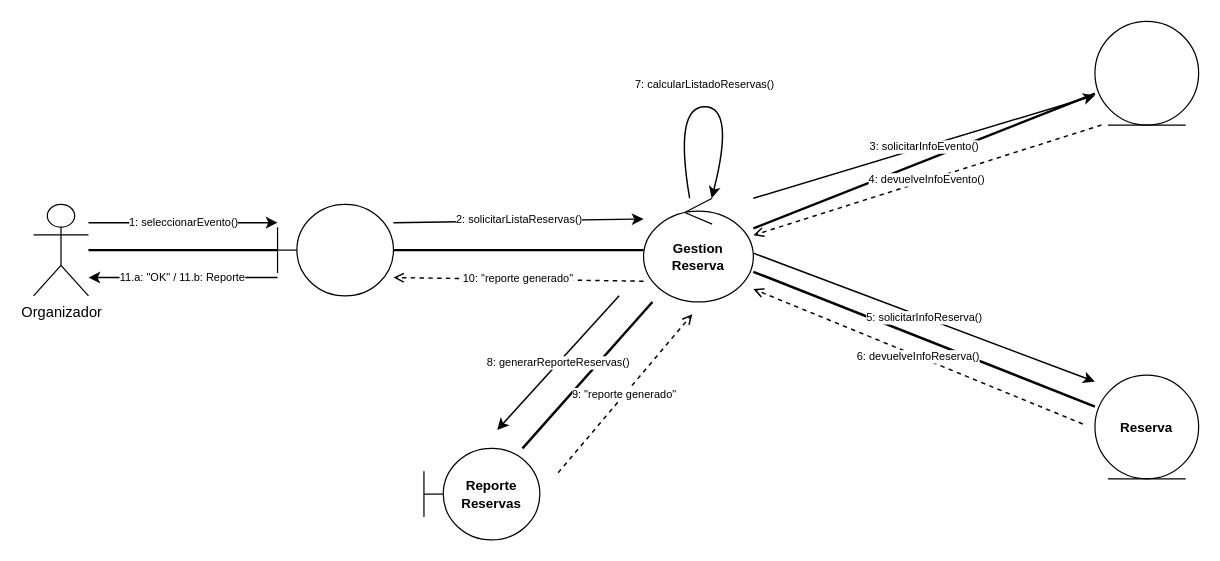
The diagram is 1220 pixels wide and 561 high, and some of its shapes have lost their labels. The shapes that lost their labels are listed below. From the top down, each one's centre as x and y in pixels, then its label:
(1146,72): Evento
(334,249): Pantalla Eventos
